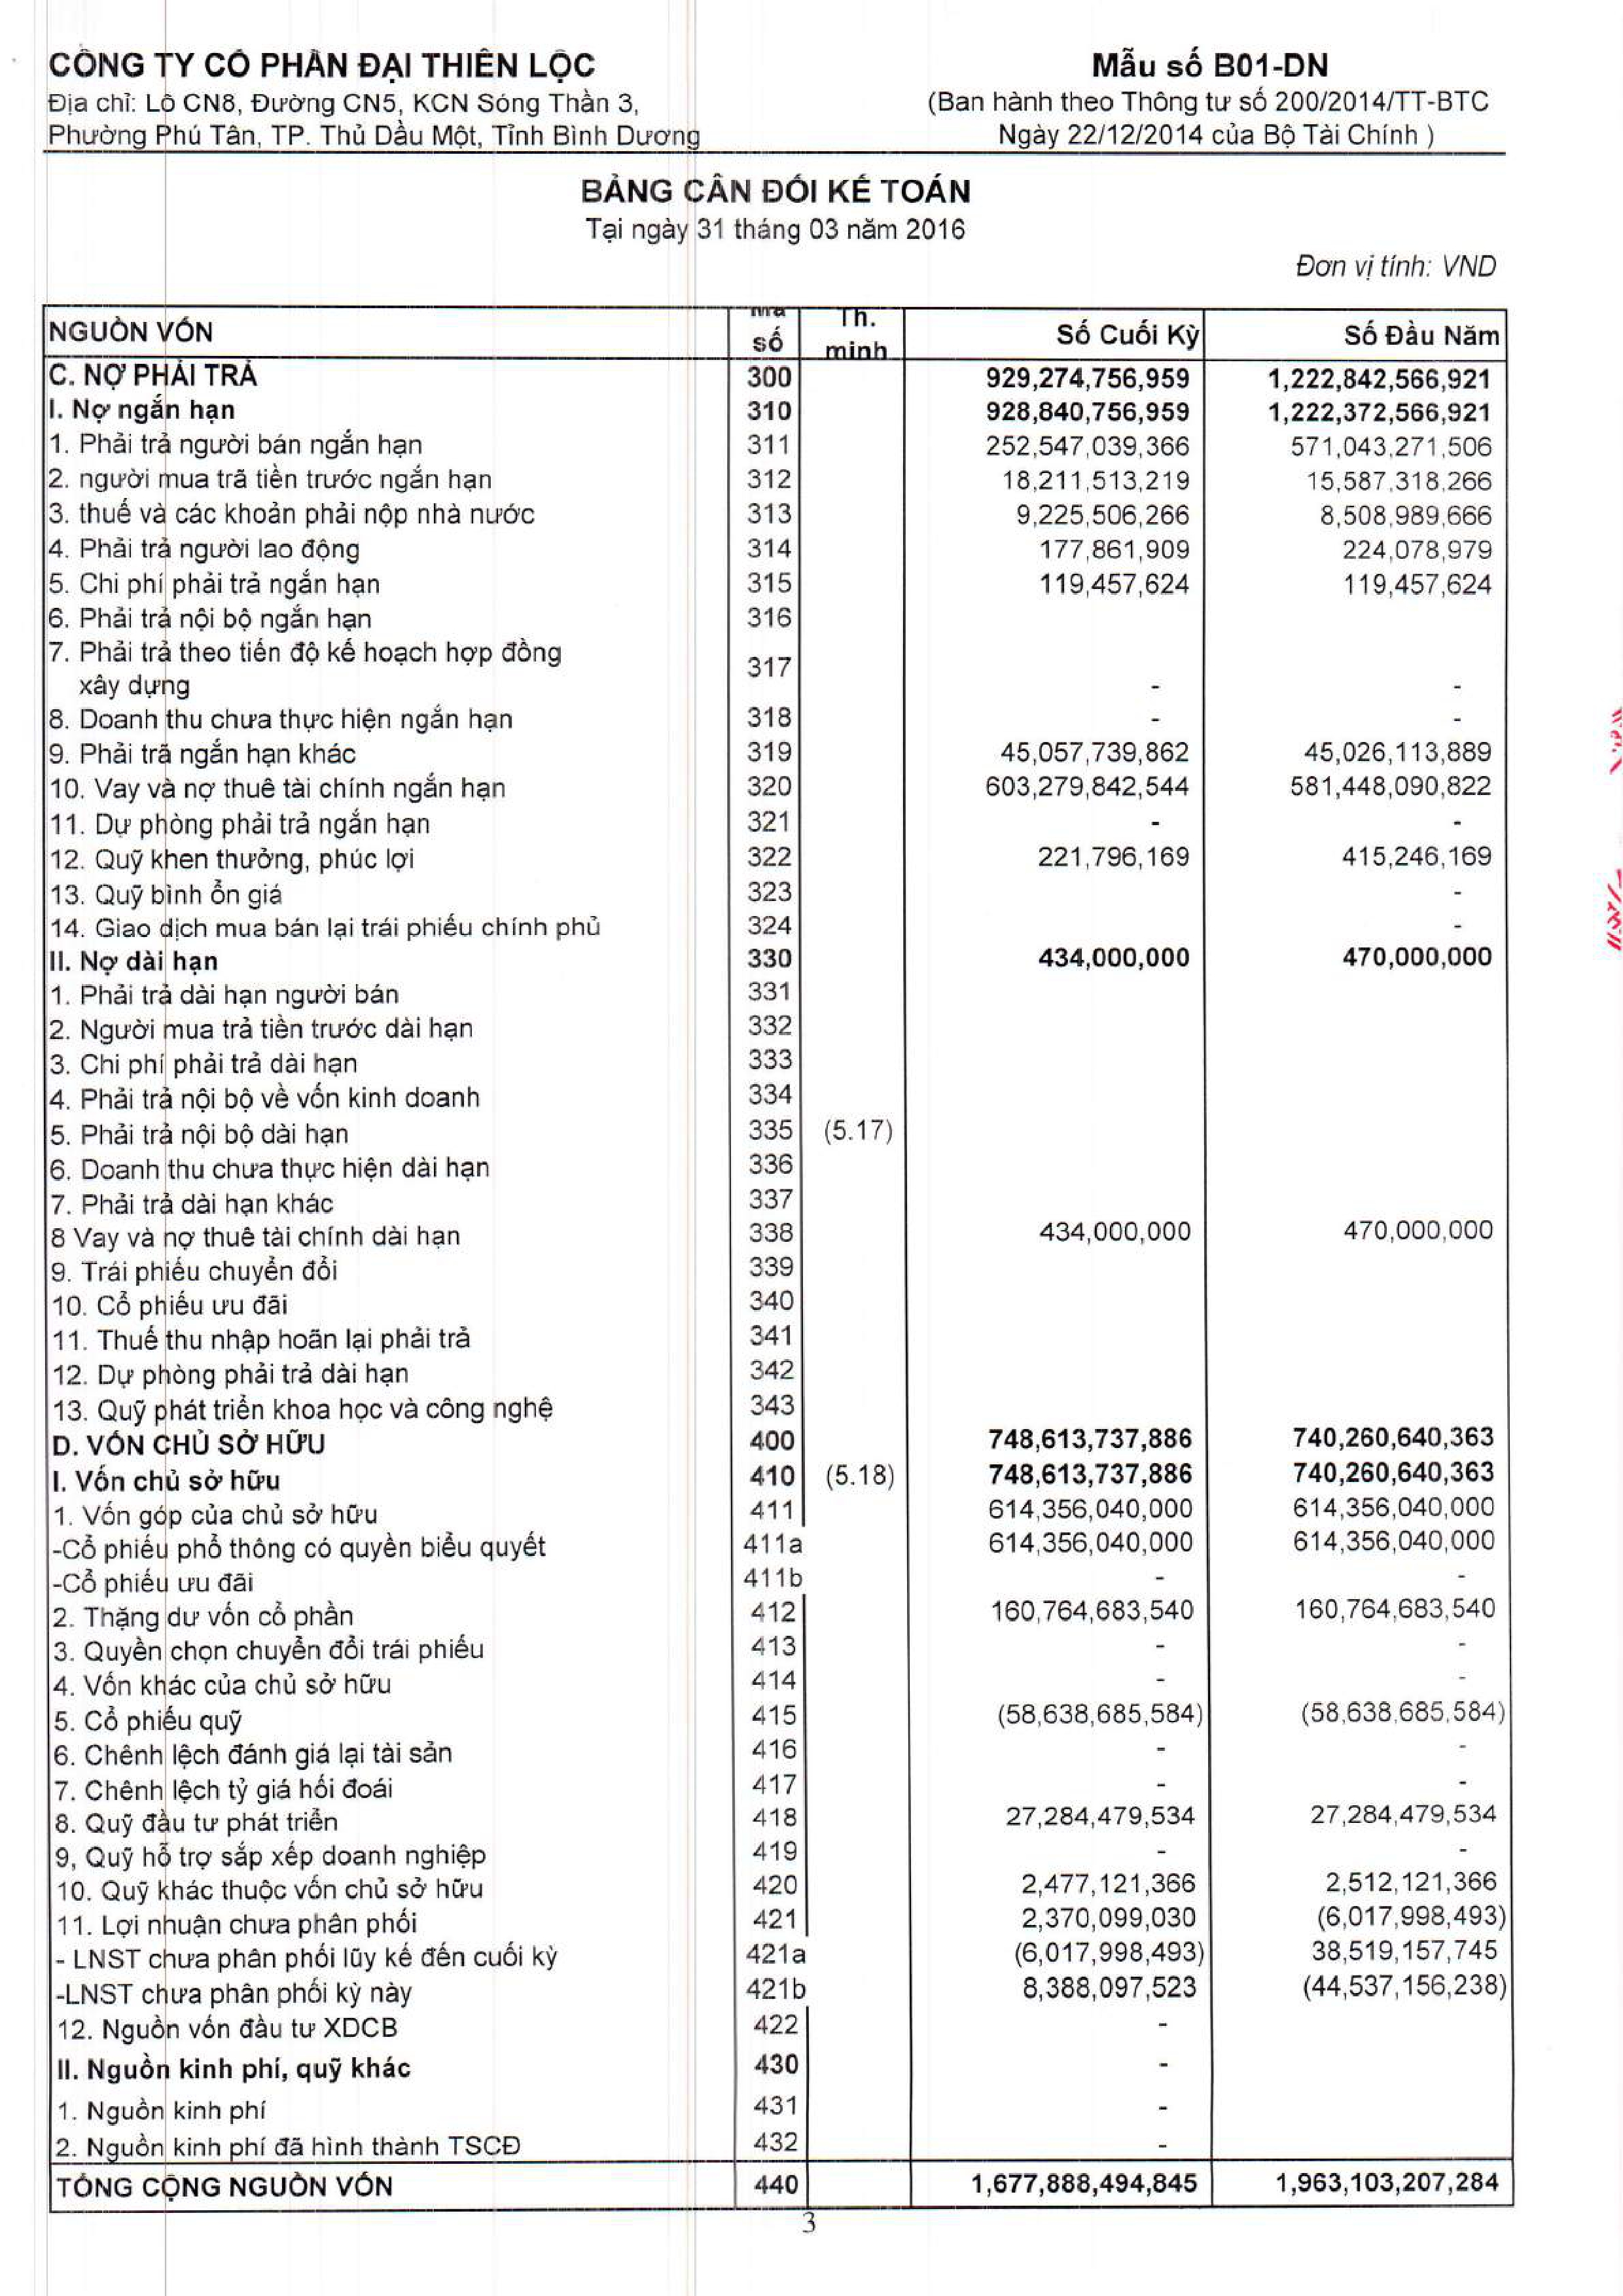table: (28, 291, 1528, 2219)
table column: (46, 291, 697, 2219), (963, 291, 1219, 2219), (1268, 291, 1509, 2219), (834, 291, 913, 2219), (755, 291, 827, 2219)
table column header: (30, 304, 1528, 372)
table row: (28, 314, 1528, 365), (28, 365, 1528, 400), (28, 469, 1528, 504), (28, 504, 1528, 539), (28, 539, 1528, 574), (28, 574, 1528, 609), (28, 918, 1528, 953), (28, 1060, 1528, 1095), (28, 2087, 1528, 2122), (28, 400, 1528, 434), (28, 435, 1528, 469), (28, 709, 1528, 743), (28, 744, 1528, 778), (28, 779, 1528, 813), (28, 814, 1528, 848), (28, 990, 1528, 1023), (28, 1162, 1528, 1195), (28, 1199, 1528, 1232), (28, 1304, 1528, 1338), (28, 1341, 1528, 1374), (28, 1443, 1528, 1476), (28, 1478, 1528, 1511), (28, 1548, 1528, 1582), (28, 1617, 1528, 1650), (28, 1687, 1528, 1720), (28, 1792, 1528, 1826), (28, 1827, 1528, 1861), (28, 1968, 1528, 2001), (28, 2003, 1528, 2036), (28, 2043, 1528, 2077), (28, 2127, 1528, 2161), (28, 2164, 1528, 2198), (28, 611, 1528, 642), (28, 676, 1528, 707), (28, 851, 1528, 883), (28, 885, 1528, 916), (28, 957, 1528, 988), (28, 1027, 1528, 1058), (28, 1095, 1528, 1127), (28, 1129, 1528, 1160), (28, 1236, 1528, 1267), (28, 1271, 1528, 1302), (28, 1376, 1528, 1408), (28, 1410, 1528, 1441), (28, 1515, 1528, 1546), (28, 1583, 1528, 1615), (28, 1654, 1528, 1685), (28, 1724, 1528, 1755), (28, 1864, 1528, 1896), (28, 1899, 1528, 1931), (28, 1933, 1528, 1964), (28, 1759, 1528, 1789), (28, 646, 1528, 674)
